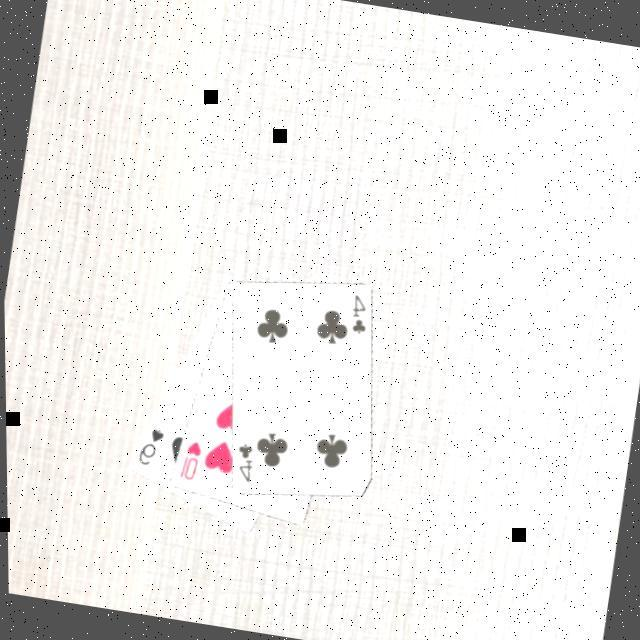10H: (170, 436, 202, 486)
4C: (226, 440, 256, 488), (342, 292, 372, 340)
6S: (129, 423, 165, 471)
